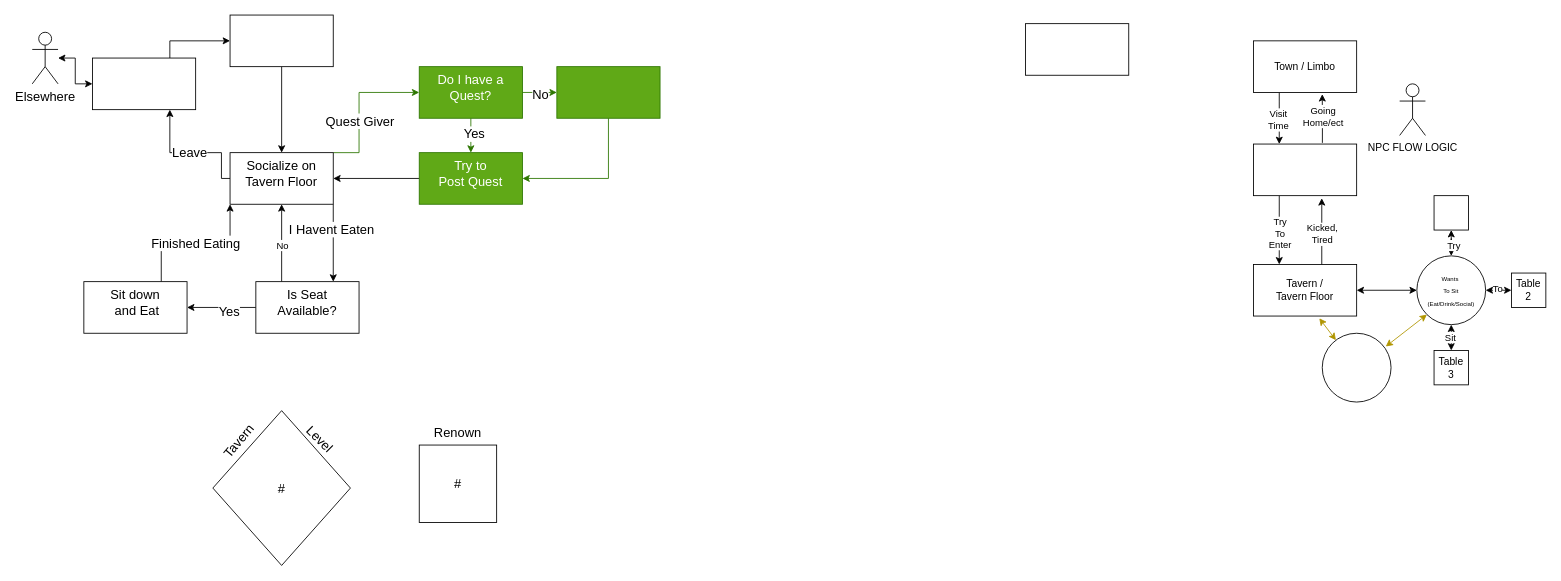
This 1561x581 diagram has some shape labels left out. The centre of each missing label's shape, as x and y in pixels:
"Generate Quest" belongs at point 608,92.
"Gets Created" belongs at point 1077,49.
"Street Outside" belongs at point 144,83.
"Street Outside (Walking to, Waiting, Thinking)" belongs at point 1305,169.
"Table 1" belongs at point 1450,212.
"Try to Enter Tavern if Spot Availabe" belongs at point 281,40.
"Wants to Post Quest" belongs at point 1356,367.
